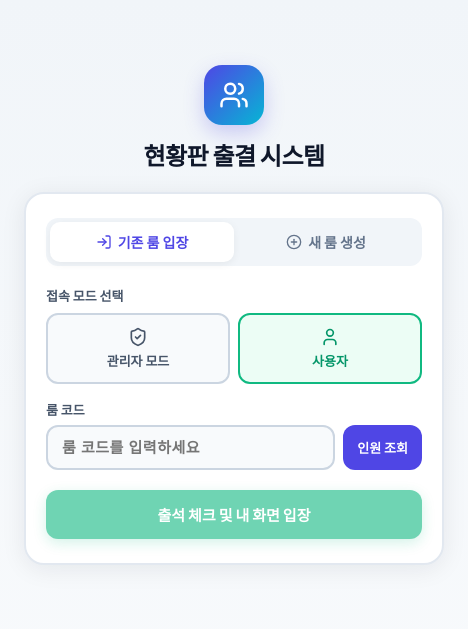
Test case: JoinScreen Component › should switch between admin and user mode when clicked
Click the button "관리자 모드" at {"x": 138, "y": 348}, box [46, 313, 230, 384]
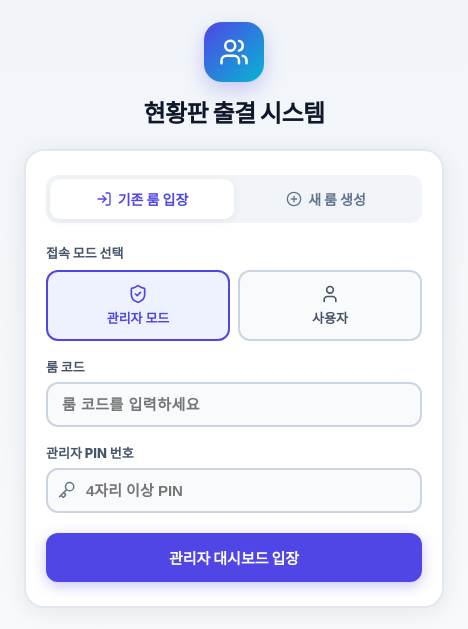
Expected: the password field with placeholder "4자리 이상 PIN" is shown, [46, 468, 422, 513]
다시 사용자로 전환하면 인원 조회 흐름으로 돌아온다
Click the button "사용자" at {"x": 330, "y": 305}, box [238, 270, 422, 341]
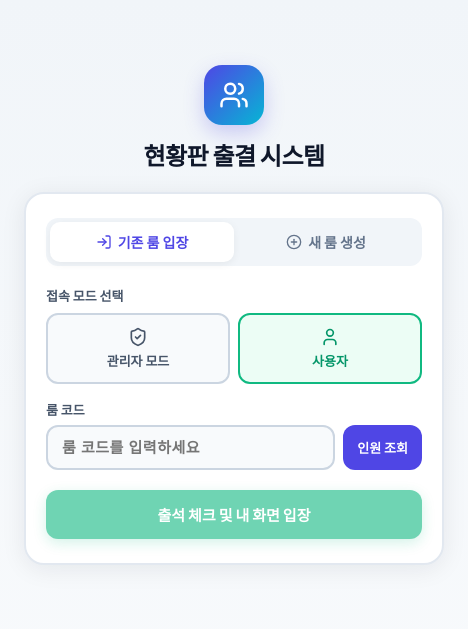
Expected: the button "인원 조회" is shown, [343, 425, 422, 470]
